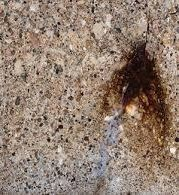Corrosion: (101, 42, 168, 139)
